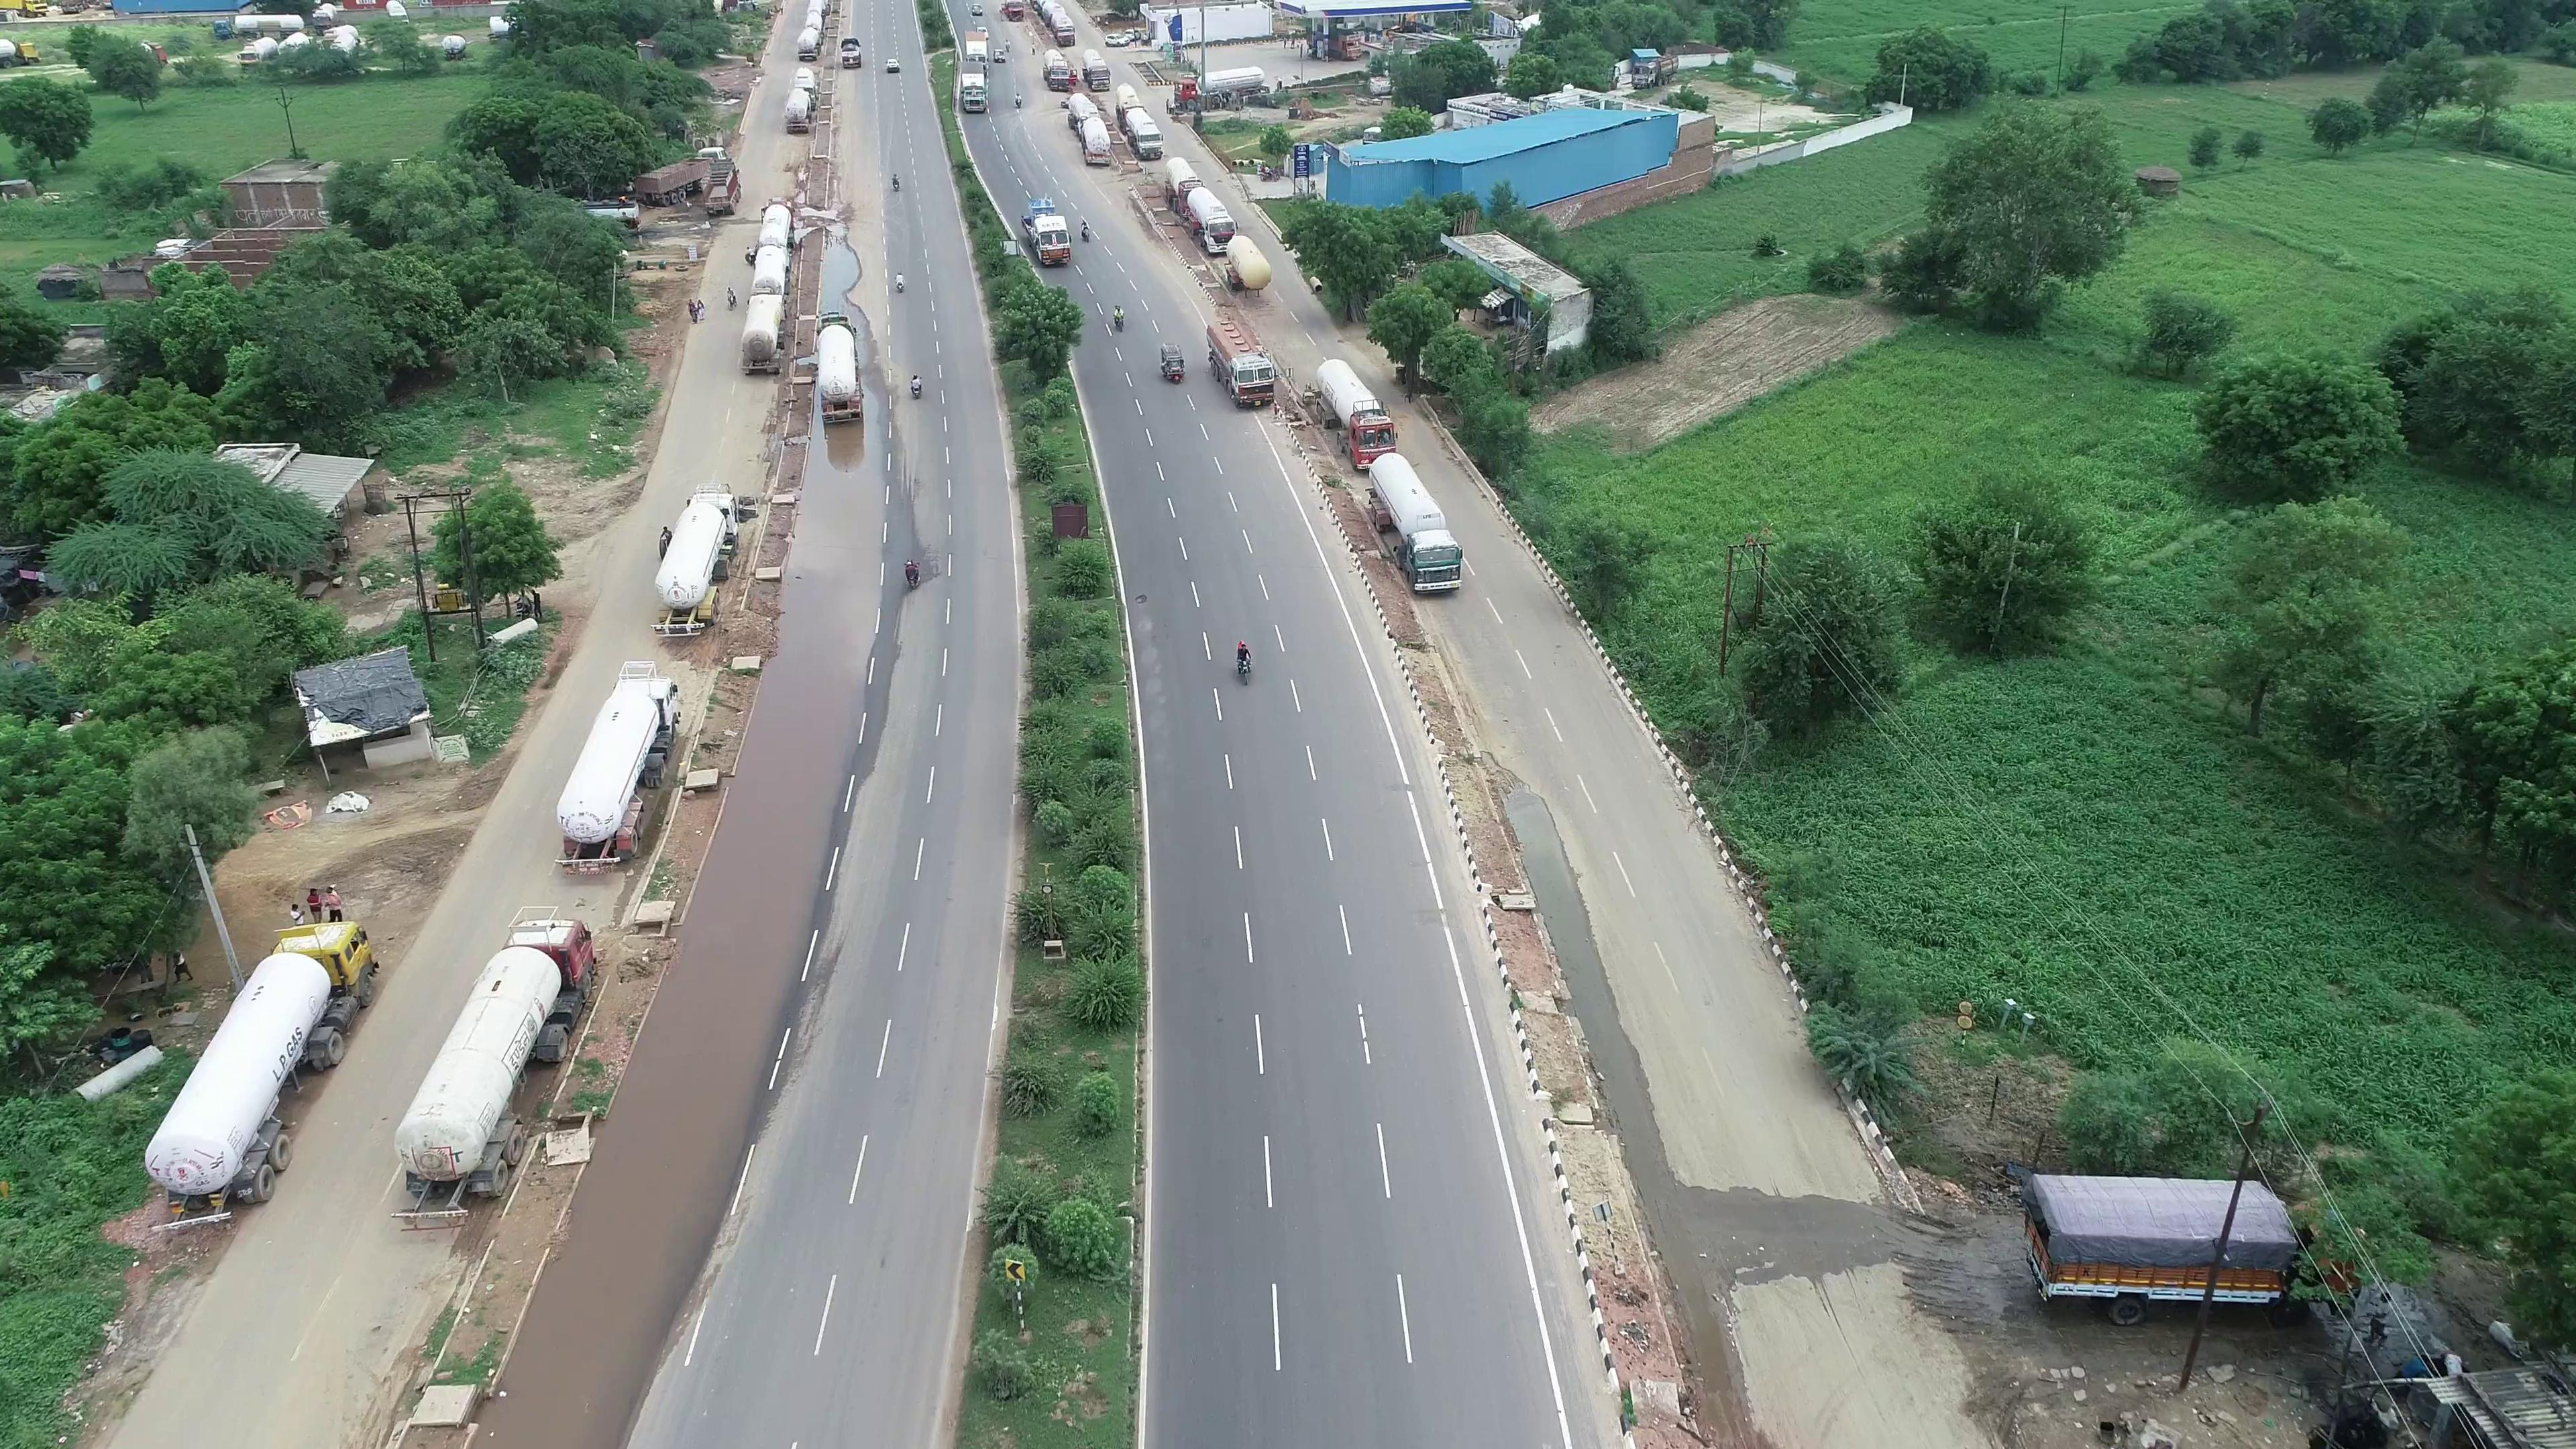Waterlogging: (487, 1033, 777, 1433), (651, 671, 856, 1024), (789, 444, 922, 655)
